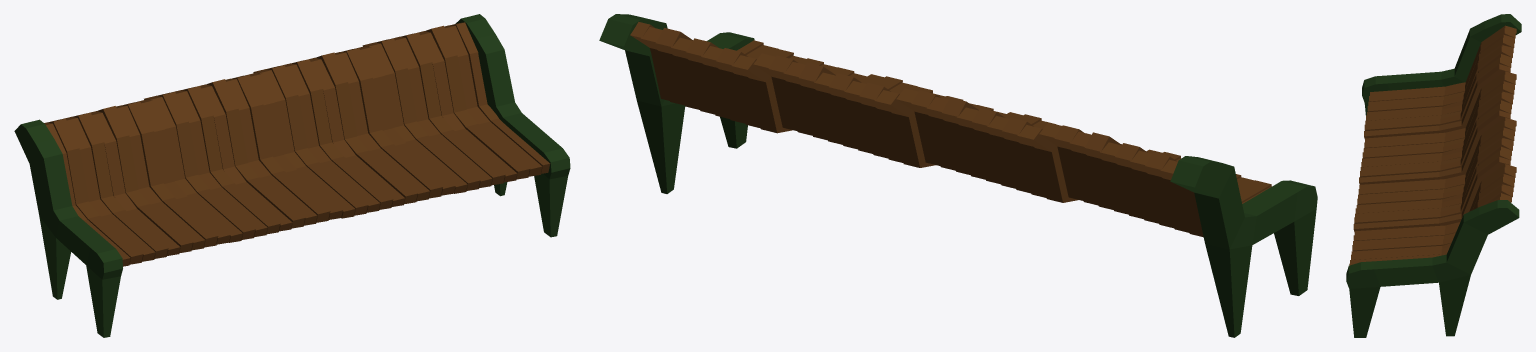
File: bench.fbx
3 renders of one model, left to right at view 1: azimuth 30°, elevation 25°; view 2: azimuth 150°, elevation 25°; view 3: azimuth 270°, elevation 25°, orthographic. The views are drawn at different scales.
Visible parts, largest first — view 1: Bench; view 2: Bench; view 3: Bench.
Part boxes in pixels (box(x1,y1,x2,y2)): Bench: box(14, 14, 570, 337); Bench: box(599, 14, 1317, 337); Bench: box(1346, 14, 1521, 337).
Size of the model in its own units: 1825 by 589 by 693.
